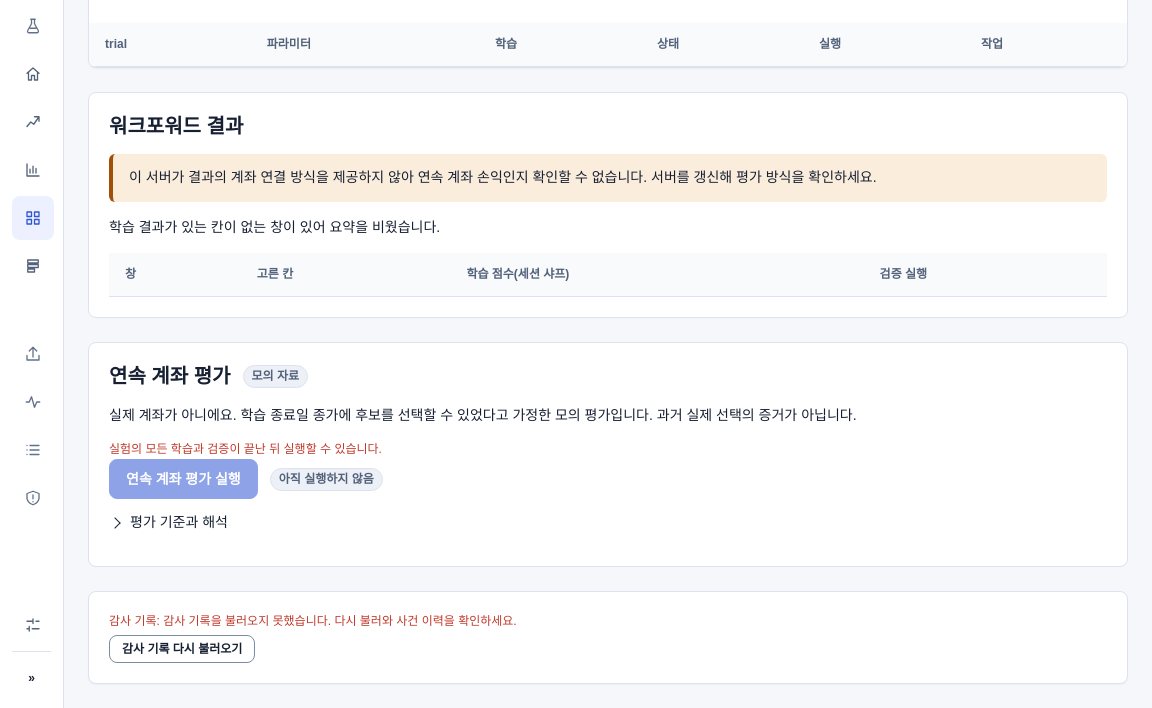
experiments › 감사 기록 조회 실패를 알리고 재시도 후 원본 사건 순서와 키보드 탐색을 복구한다
(page scrolled)
Expected: the message "감사 기록" shows "감사 기록을 불러오지 못했습니다", [109,614,517,628]
Click the button "감사 기록 다시 불러오기".
click(182, 649)  # box [109,635,255,663]
(page scrolled)
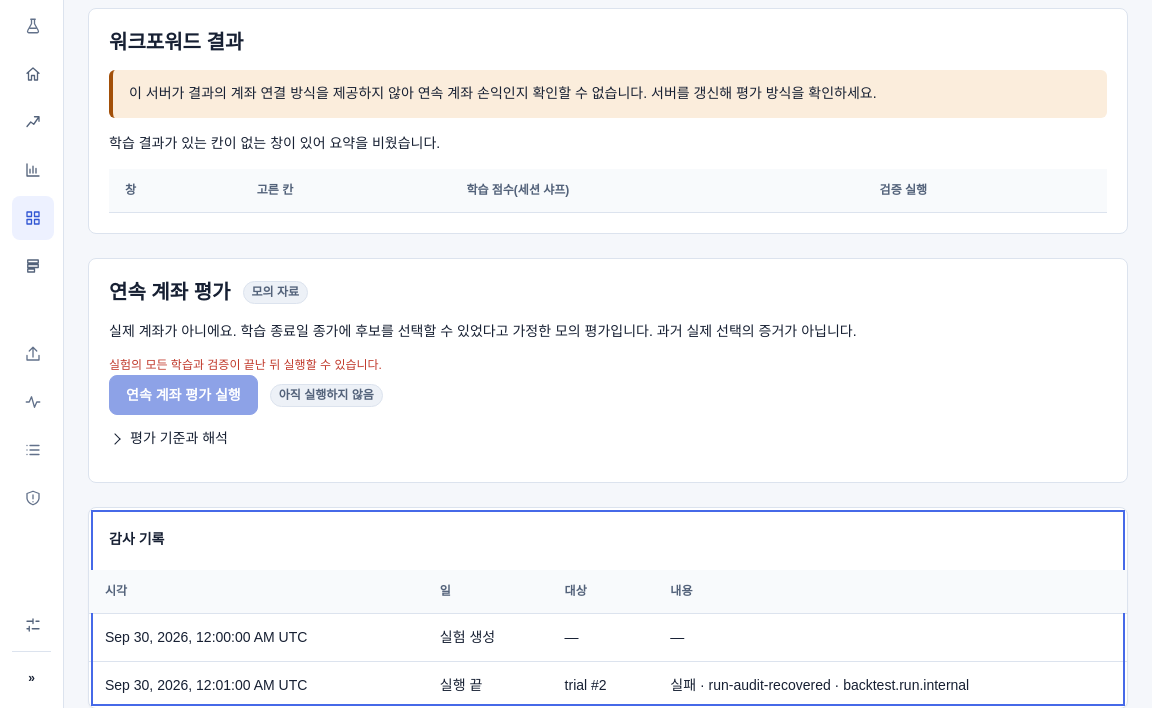
Expected: the row "Sep 30, 2026, 12:00:00 AM UTC 실험 생성 — —" is shown, [89,614,1127,661]
